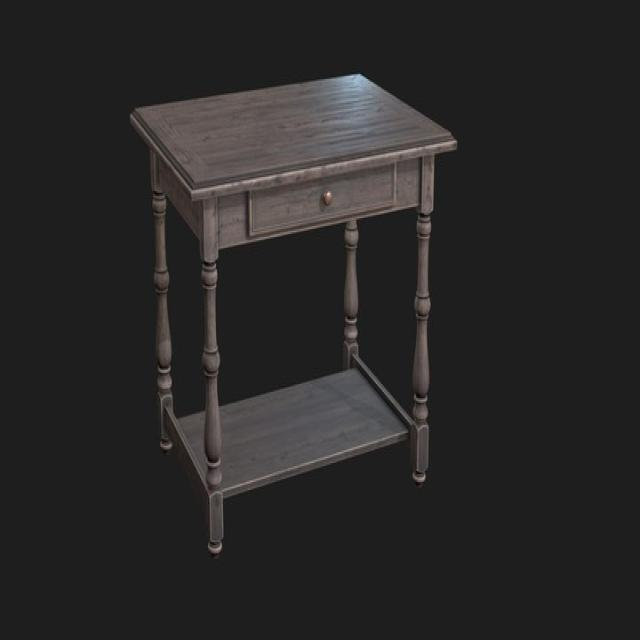table: (131, 68, 461, 556)
